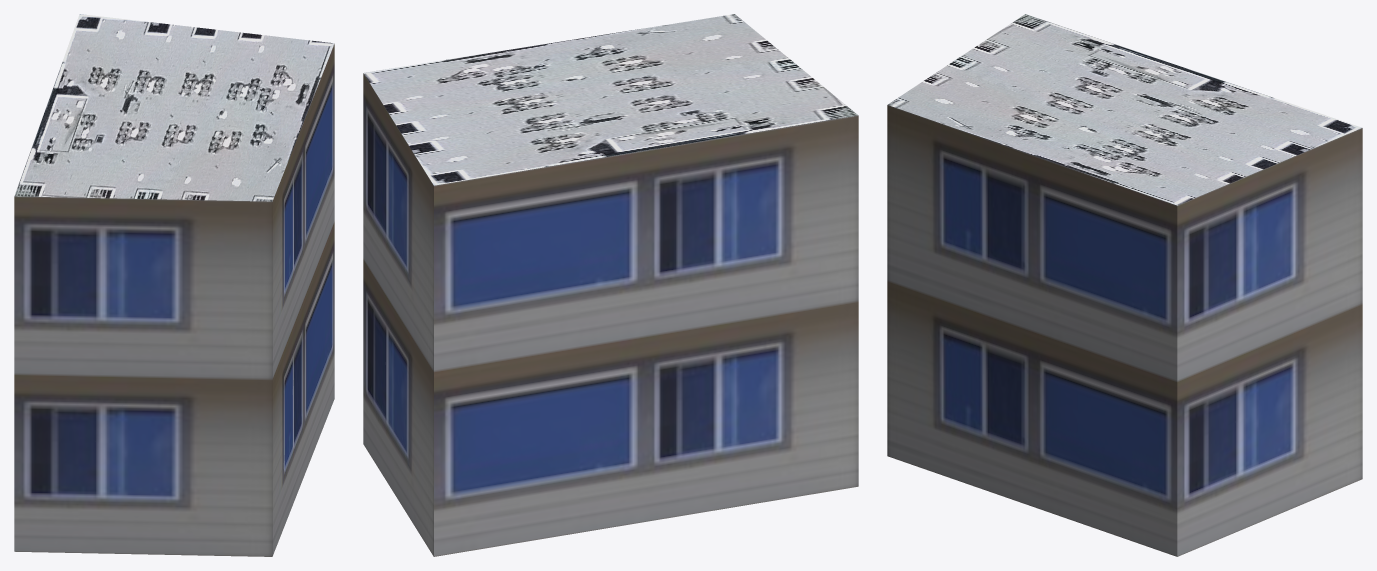
Rendered from ResTex__4747.fbx.
3 renders of one model, left to right at view 1: azimuth 30°, elevation 25°; view 2: azimuth 150°, elevation 25°; view 3: azimuth 270°, elevation 25°, orthographic. The views are drawn at different scales.
Parts seen in each view (by area): view 1: CityEngineMaterial_23_m, CityEngineMaterial_8_m; view 2: CityEngineMaterial_23_m, CityEngineMaterial_8_m; view 3: CityEngineMaterial_23_m, CityEngineMaterial_8_m.
Boxes of the visible parts, x1,y1,x2,y2 form: CityEngineMaterial_23_m: [14, 44, 334, 556]; CityEngineMaterial_8_m: [14, 14, 334, 201]; CityEngineMaterial_23_m: [363, 73, 858, 556]; CityEngineMaterial_8_m: [363, 14, 858, 185]; CityEngineMaterial_23_m: [887, 105, 1362, 556]; CityEngineMaterial_8_m: [887, 14, 1362, 205].
Bounding box in the file's own units: 7.02 × 6 × 7.36.
2 materials, 2 textured.
